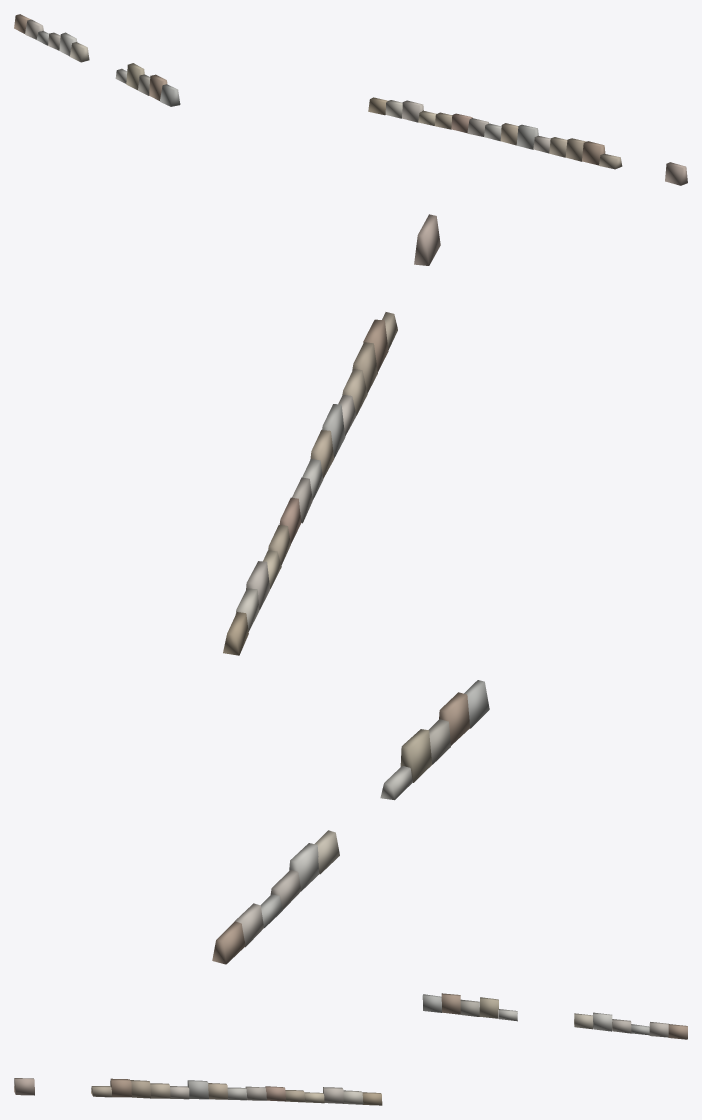
File: farm_-35_-42_far.glb
The picture shows the model from 3 angles, top to bottom: view 1: azimuth 30°, elevation 25°; view 2: azimuth 150°, elevation 25°; view 3: azimuth 270°, elevation 25°; orthographic projection. The views are drawn at different scales.
Visible parts, largest first — view 1: geometry_0; view 2: geometry_0; view 3: geometry_0.
Part boxes in pixels (box(x1,y1,x2,y2)): geometry_0: box(14, 14, 687, 185); geometry_0: box(212, 214, 489, 964); geometry_0: box(14, 993, 687, 1105).
Bounding box in the file's own units: 21.79 × 6.29 × 53.67.
